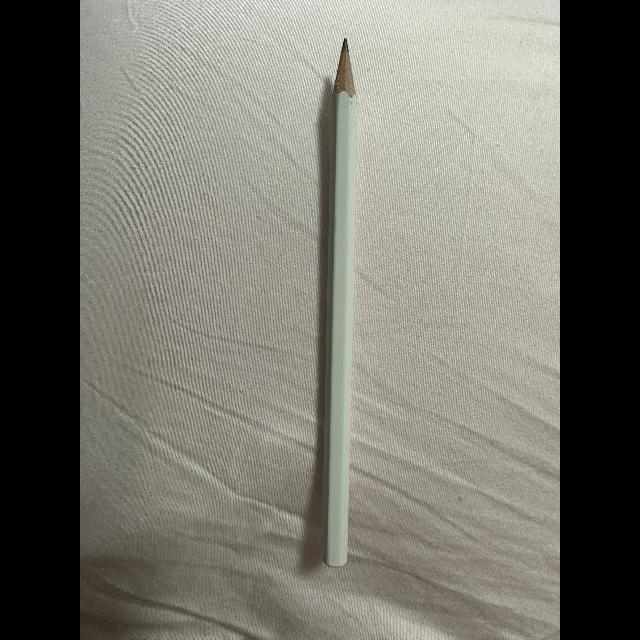pencil: (324, 32, 364, 570)
